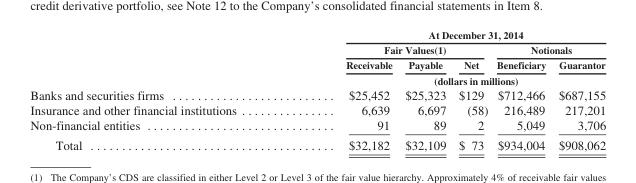table: (29, 28, 605, 152)
table column: (29, 28, 290, 152), (290, 28, 398, 152), (491, 28, 551, 152), (551, 28, 605, 152), (398, 28, 451, 152), (451, 28, 491, 152)
table column header: (29, 28, 605, 86)
table row: (29, 134, 605, 152), (29, 117, 605, 134), (29, 86, 605, 102), (29, 42, 605, 57), (29, 57, 605, 72), (29, 102, 605, 117), (29, 28, 605, 42), (29, 72, 605, 86)
table spanning cell: (290, 28, 605, 42), (290, 72, 605, 86), (290, 42, 491, 57), (491, 42, 605, 57)
